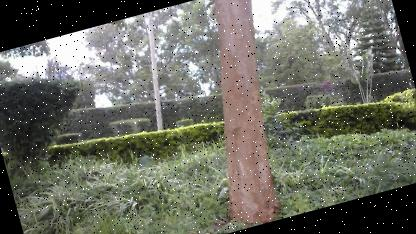tree: (163, 0, 313, 232)
